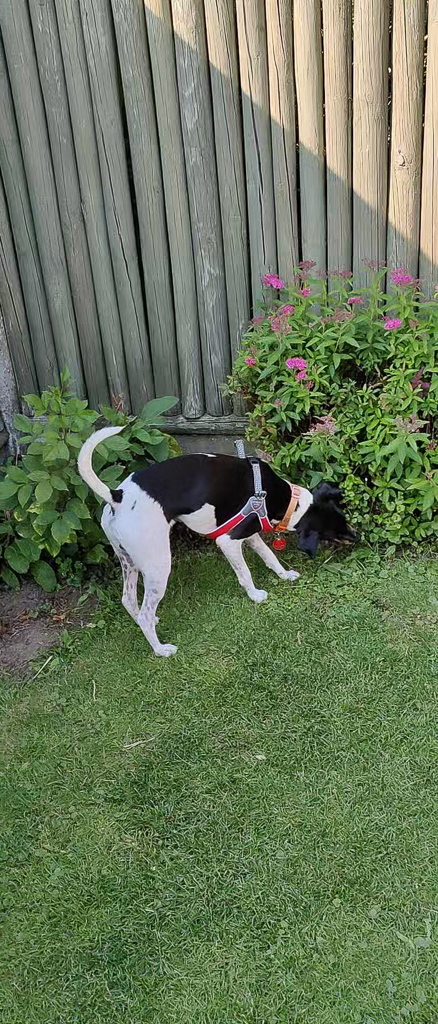Dog: (59, 407, 381, 668)
